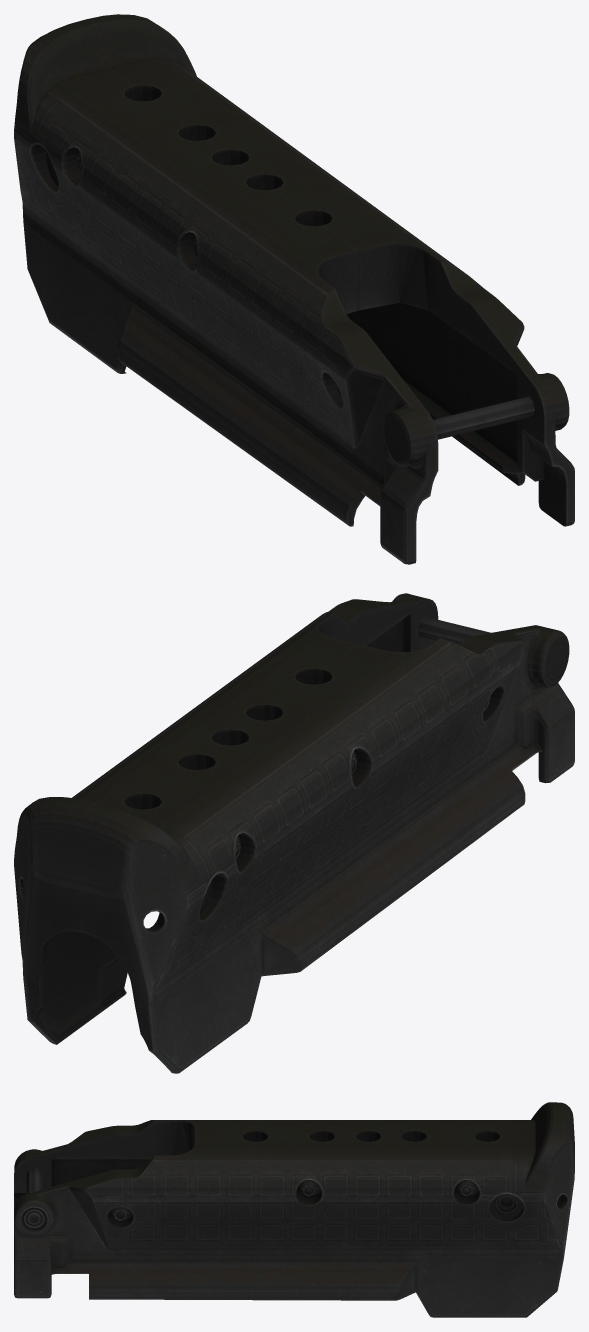
3 renders of one model, top to bottom at view 1: azimuth 30°, elevation 25°; view 2: azimuth 150°, elevation 25°; view 3: azimuth 270°, elevation 25°, orthographic. The views are drawn at different scales.
Visible parts, largest first — view 1: TW_5f2aa47a200e2c0ee46efa71_PZ_Import; view 2: TW_5f2aa47a200e2c0ee46efa71_PZ_Import; view 3: TW_5f2aa47a200e2c0ee46efa71_PZ_Import.
Boxes of the visible parts, x1,y1,x2,y2 form: TW_5f2aa47a200e2c0ee46efa71_PZ_Import: (14, 14, 574, 564); TW_5f2aa47a200e2c0ee46efa71_PZ_Import: (14, 593, 574, 1073); TW_5f2aa47a200e2c0ee46efa71_PZ_Import: (14, 1102, 574, 1317).
Bounding box in the file's own units: 0.0329 × 0.1285 × 0.0466.
Materials: 1 (1 with a texture image).
